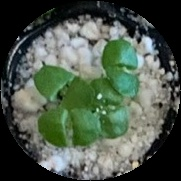Basil: (84, 81, 129, 137), (101, 37, 142, 96), (33, 68, 94, 105), (34, 110, 97, 144)
